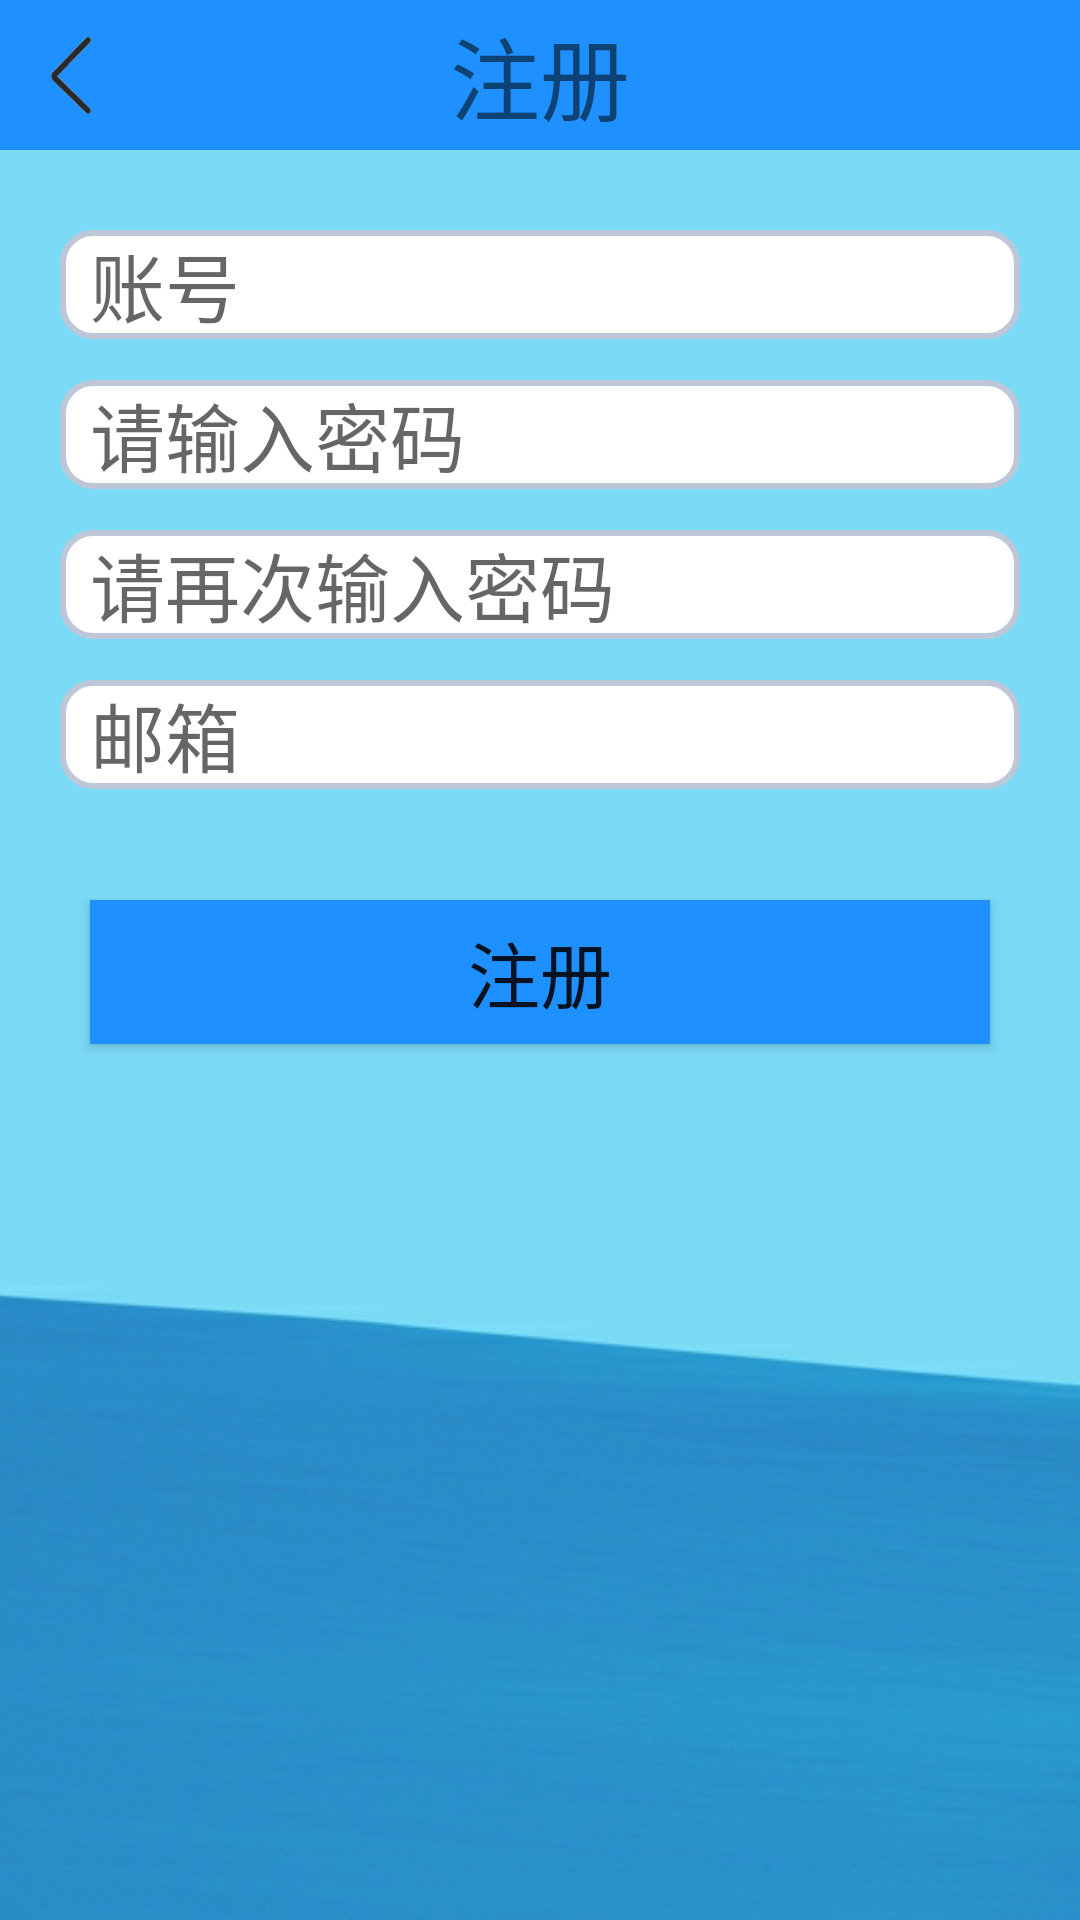

Named icons in this screenshot (1080px×1920px) and their centers, (x=x, y=y):
goback: (x=71, y=75)
